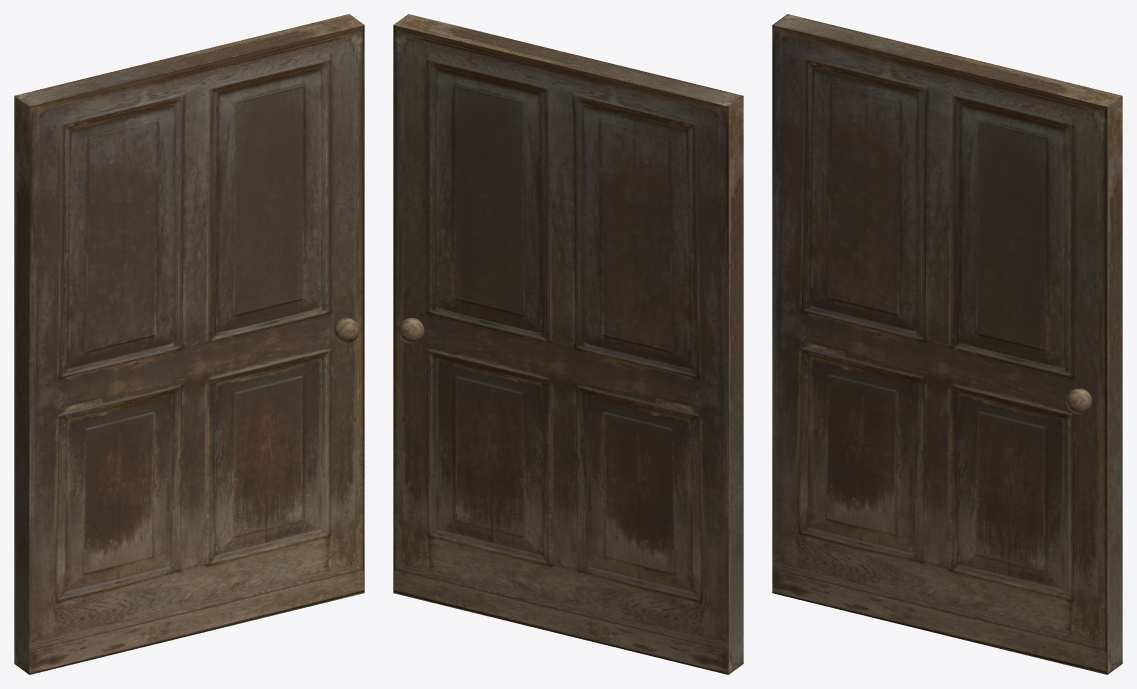
File: SchoolDoor.FBX
The picture shows the model from 3 angles, left to right: view 1: azimuth 30°, elevation 25°; view 2: azimuth 150°, elevation 25°; view 3: azimuth 330°, elevation 25°; orthographic projection.
Visible parts, largest first — view 1: SchoolDoor; view 2: SchoolDoor; view 3: SchoolDoor.
Part boxes in pixels (box(x1,y1,x2,y2)): SchoolDoor: box(14, 14, 364, 674); SchoolDoor: box(393, 14, 743, 674); SchoolDoor: box(772, 14, 1122, 674).
Size of the model in its own units: 37.53 by 60.75 by 7.4.
